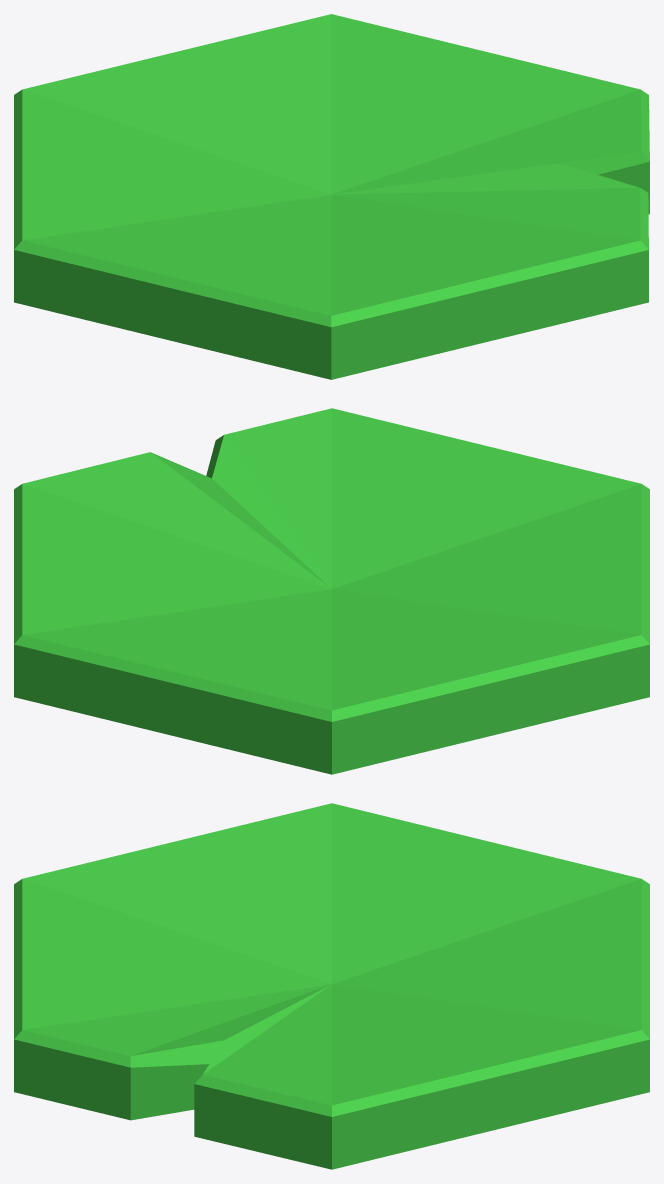
File: waterlily.fbx
The picture shows the model from 3 angles, top to bottom: view 1: azimuth 30°, elevation 25°; view 2: azimuth 150°, elevation 25°; view 3: azimuth 270°, elevation 25°; orthographic projection.
Visible parts, largest first — view 1: water_lelie; view 2: water_lelie; view 3: water_lelie.
Boxes of the visible parts, left/top/right/bottom form: water_lelie: left=14, top=14, right=649, bottom=379; water_lelie: left=14, top=408, right=649, bottom=774; water_lelie: left=14, top=803, right=649, bottom=1169.
Size of the model in its own units: 2 by 0.1808 by 1.73.
Materials: 1 (1 with a texture image).
